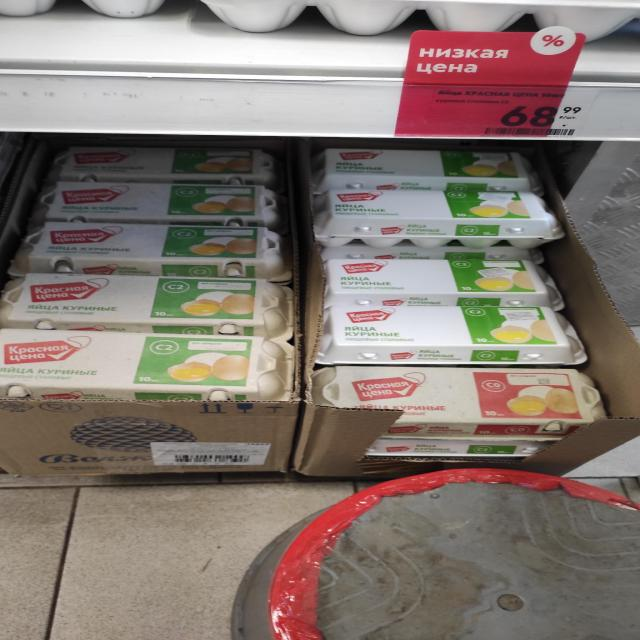organic waste: (316, 366, 605, 439), (2, 331, 290, 401), (2, 274, 292, 332), (320, 304, 589, 364), (15, 222, 288, 276), (314, 188, 559, 248), (324, 258, 557, 306), (310, 148, 540, 192), (28, 181, 280, 221), (46, 147, 282, 183)
